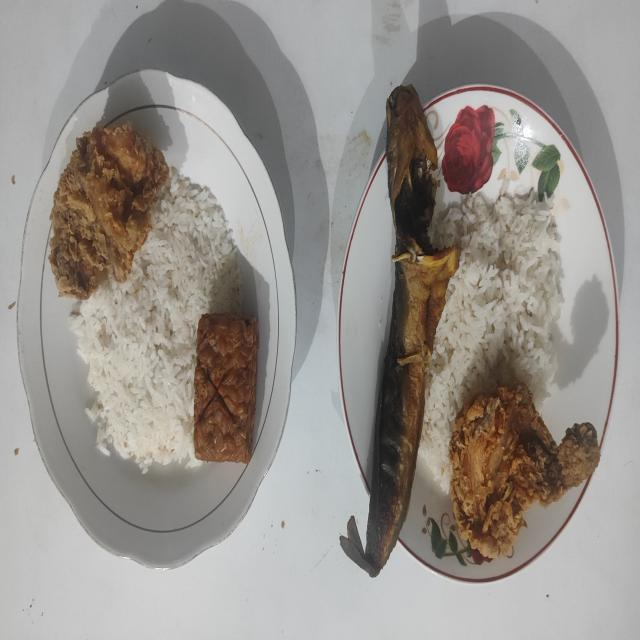nasi_putih: (70, 167, 242, 470), (420, 189, 564, 491)
tempe_goreng: (194, 314, 258, 464)
